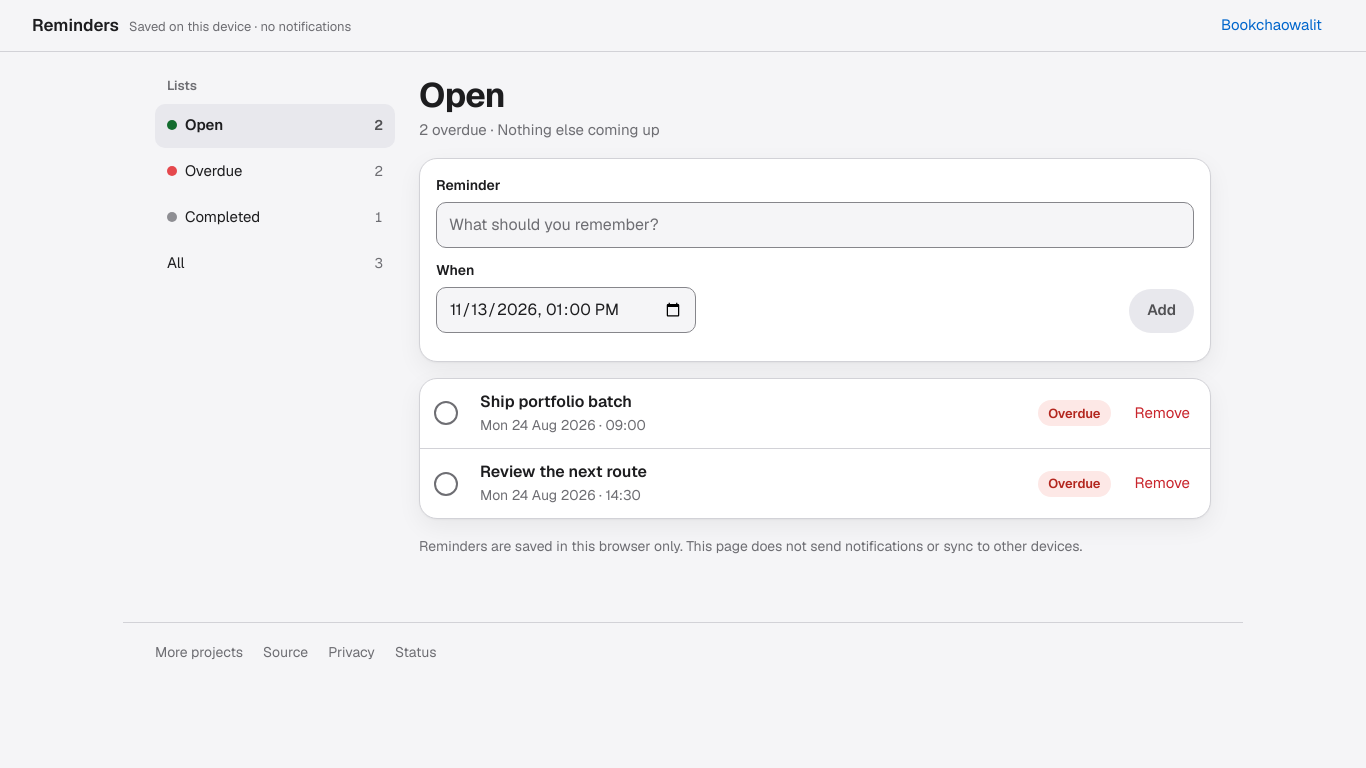
lists and empty states › says nothing is saved once everything is removed, and Completed has its own empty state
Step 1. Click the button "All 3" → (275, 264), box [155,242,395,286]
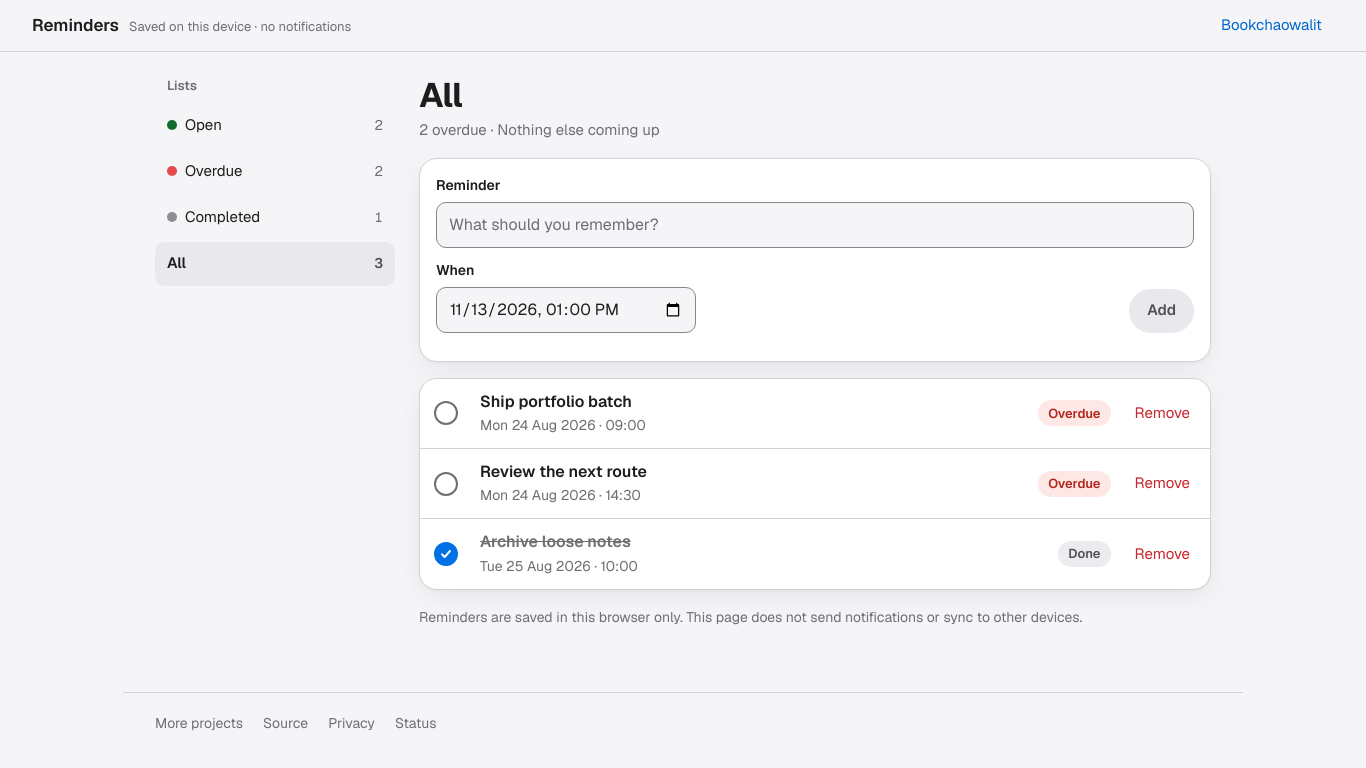
Step 2. Click the button with aria-label "Remove Ship portfolio batch" → (1162, 413), box [1123,391,1202,435]
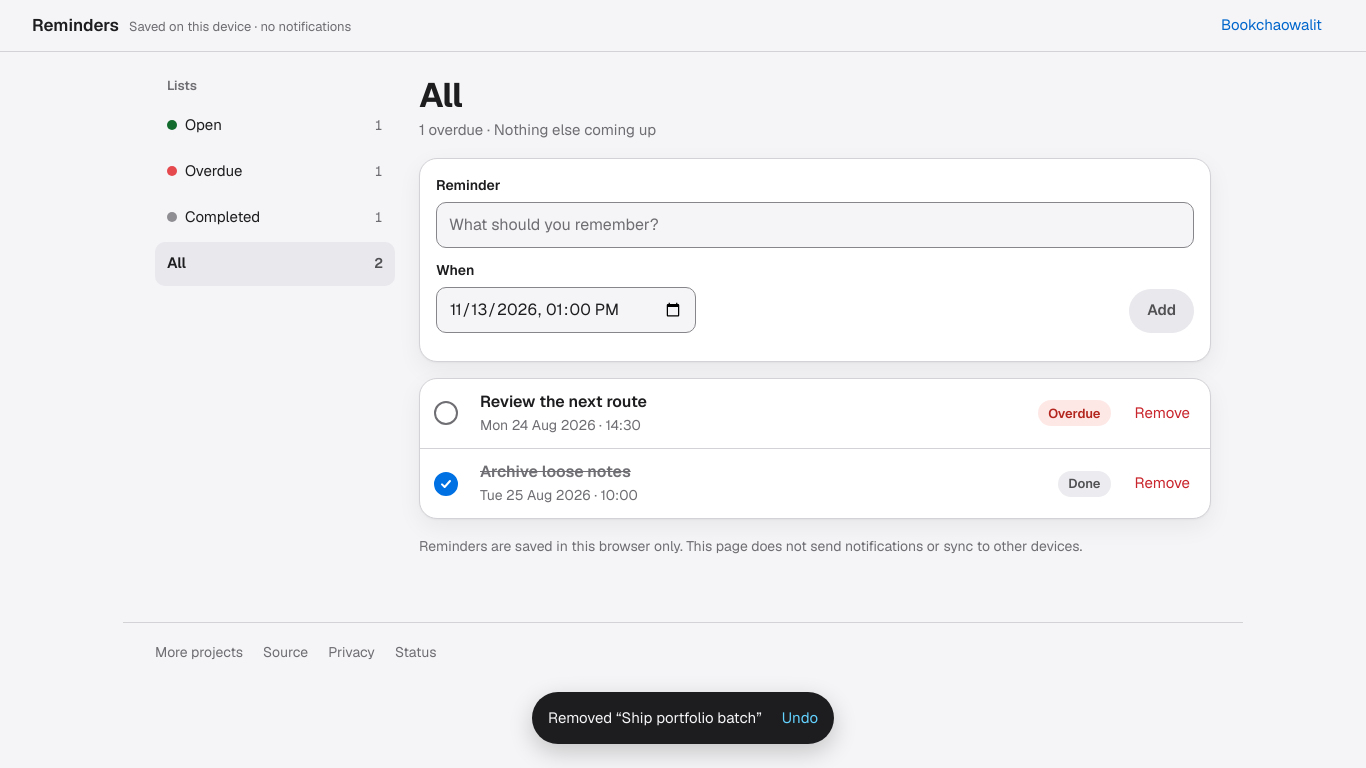
Step 3. Click the button with aria-label "Remove Review the next route" → (1162, 413), box [1123,391,1202,435]
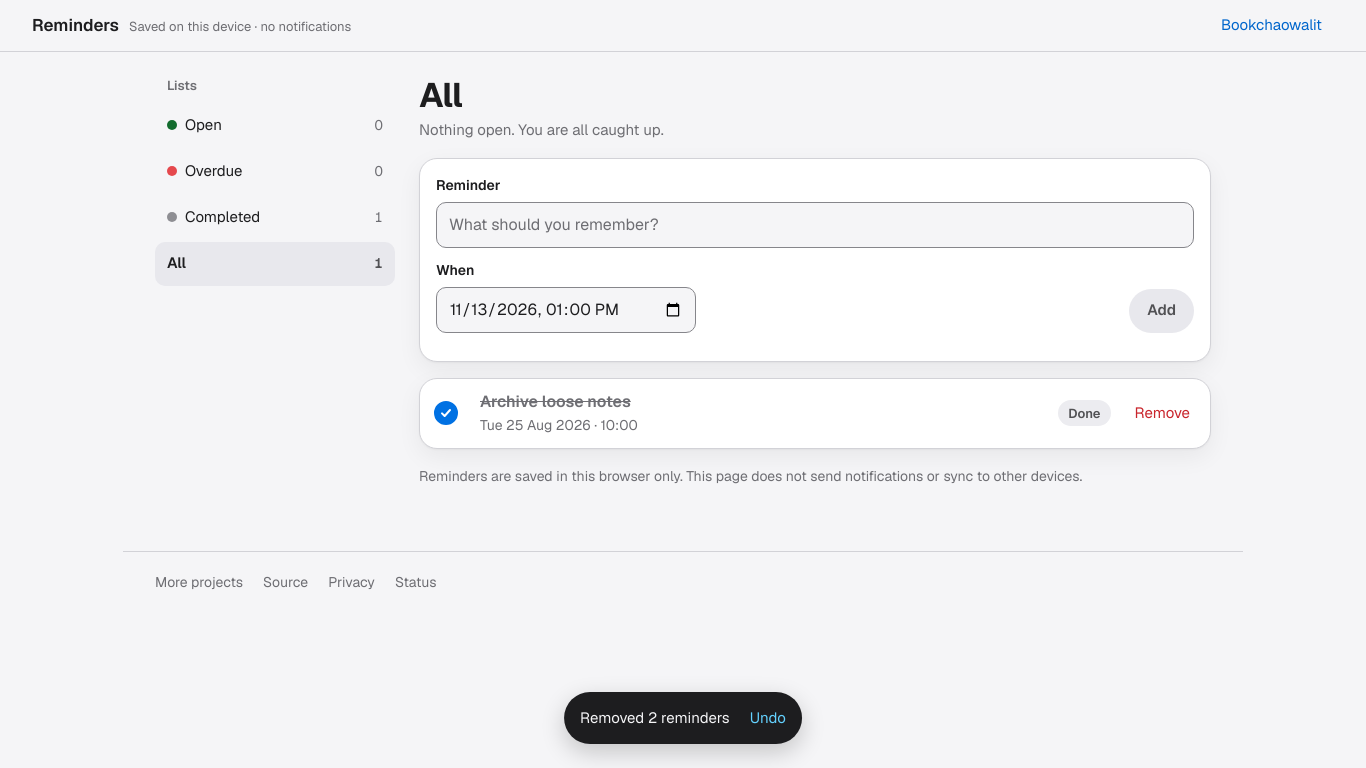
Step 4. Click the button "Remove" → (1162, 413), box [1123,391,1202,435]
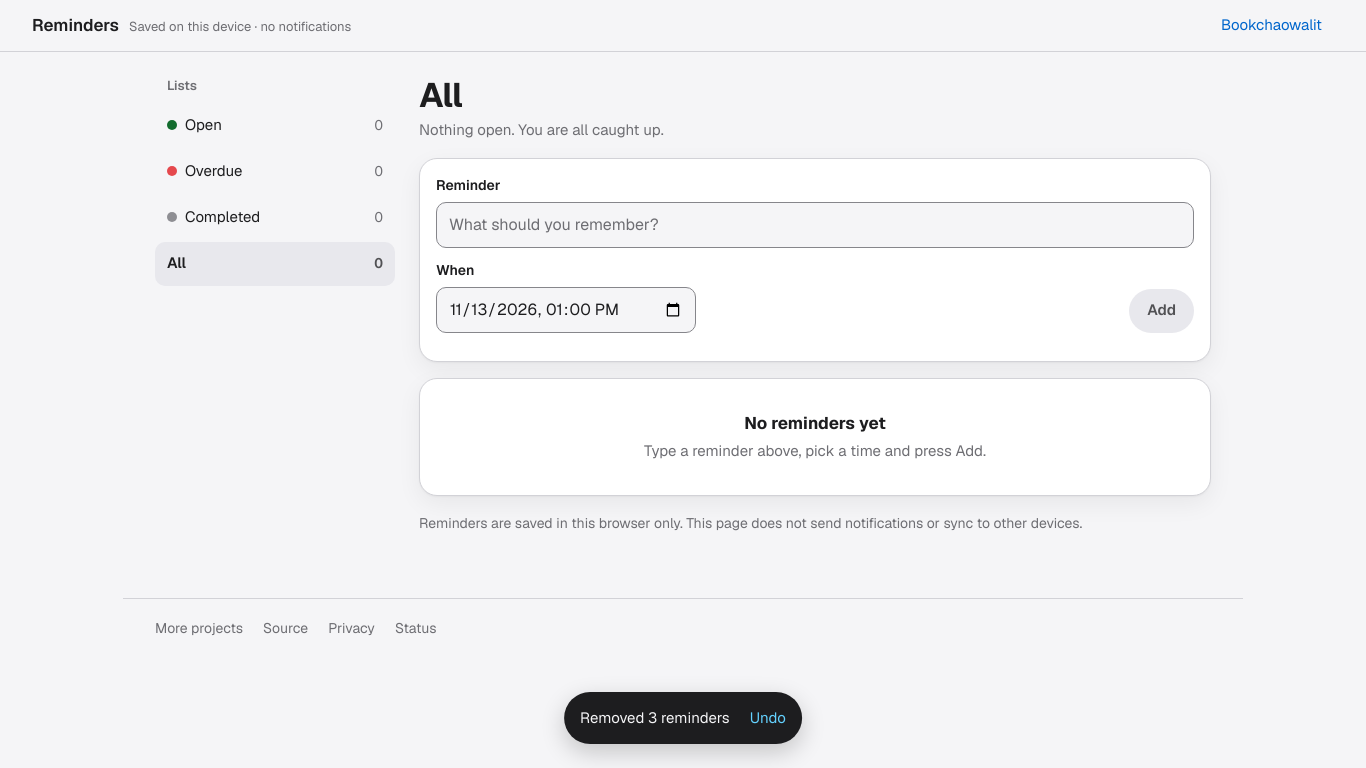
Expected: the text "No reminders yet" is shown, [744,412,886,434]
